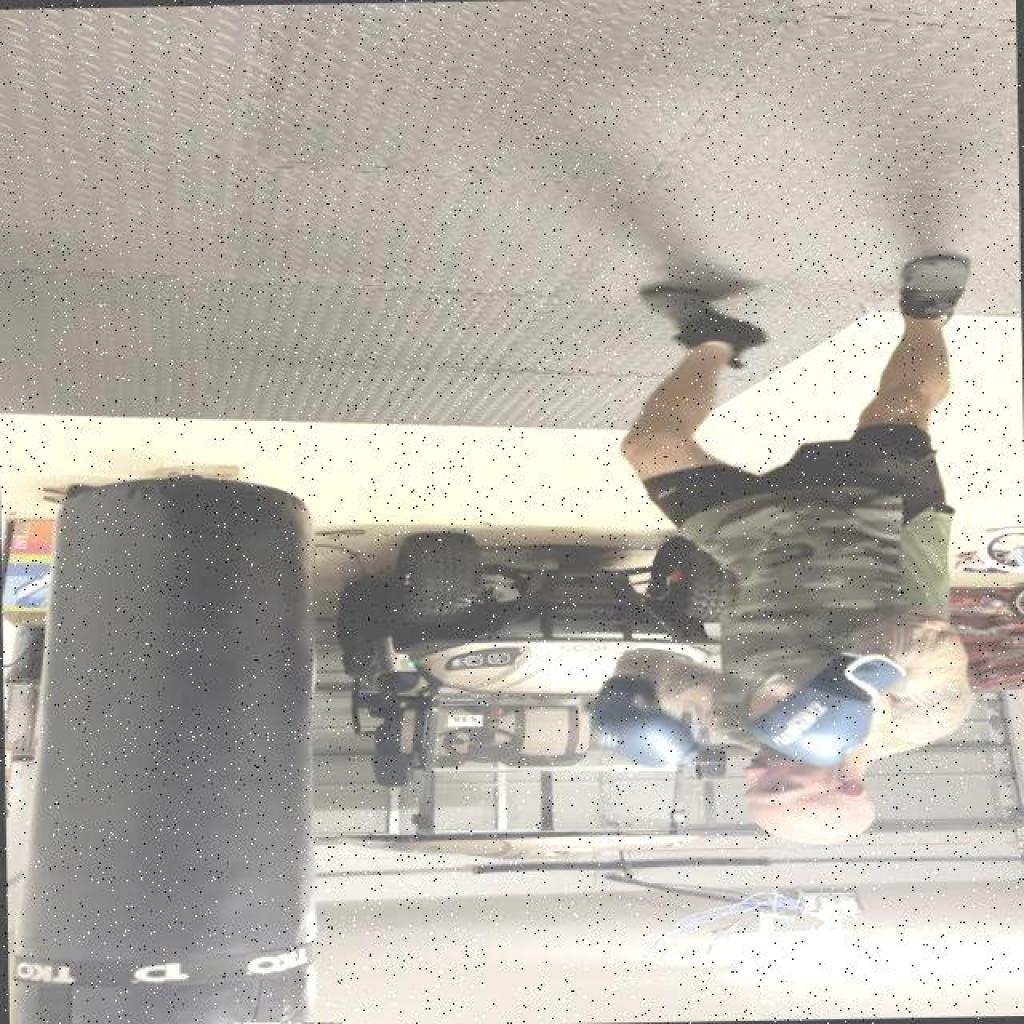bag: (37, 462, 325, 1024)
no punch: (573, 598, 982, 856), (244, 1022, 342, 1024)
